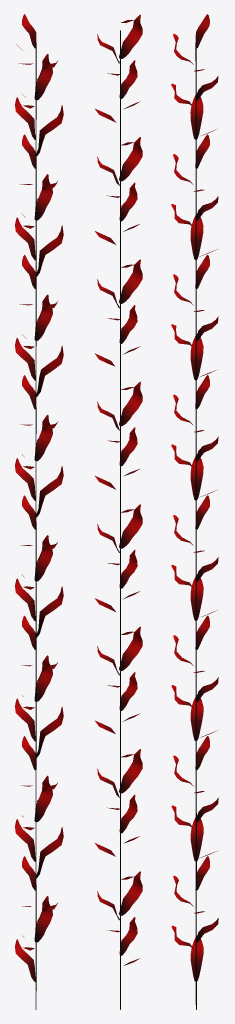
3 views of the same model, side by side, from view 1: azimuth 30°, elevation 25°; view 2: azimuth 210°, elevation 25°; view 3: azimuth 330°, elevation 25° (orthographic).
Visible parts, largest first — view 1: KELP_HP_003; view 2: KELP_HP_003; view 3: KELP_HP_003.
Part boxes in pixels (x1=…): KELP_HP_003: x1=15, y1=14, x2=63, y2=1009; KELP_HP_003: x1=94, y1=14, x2=142, y2=1009; KELP_HP_003: x1=171, y1=14, x2=218, y2=1009.
Size of the model in its own units: 0.6306 by 12.96 by 0.5059.
